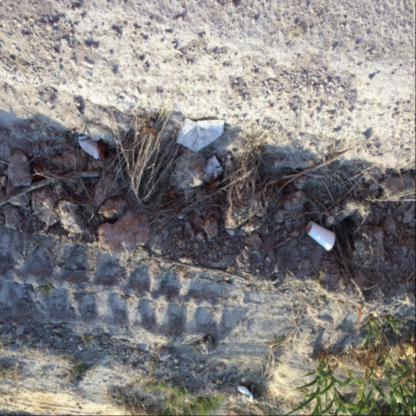Bottle cap: (237, 385, 256, 402)
Carton: (203, 155, 224, 185)
Cigarette: (181, 121, 184, 126)
Cup: (307, 221, 336, 250)
Plastic bag - wrapper: (177, 118, 225, 152)
Unlabeled litter: (79, 135, 100, 159), (160, 392, 164, 396)
